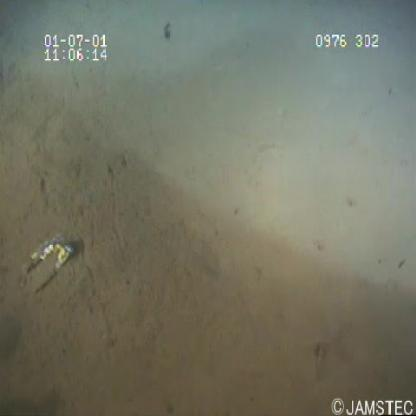Rác: (14, 225, 83, 305)
